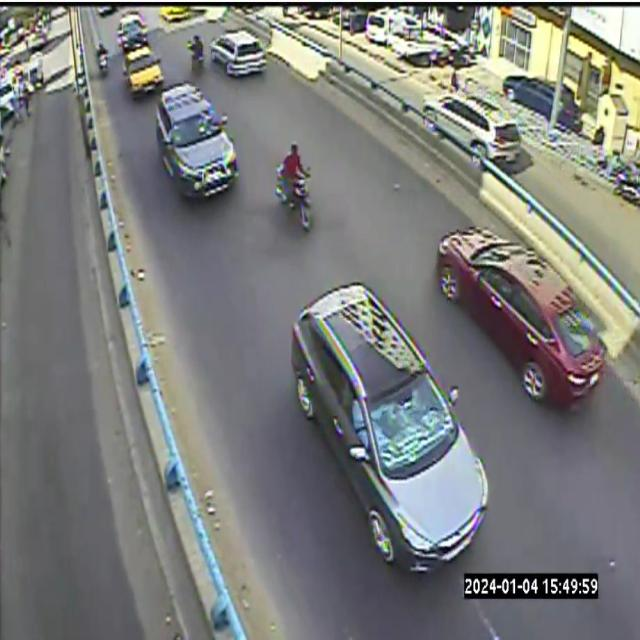car: (291, 282, 488, 572), (437, 226, 607, 406), (155, 82, 238, 196), (210, 30, 266, 75), (123, 44, 163, 96), (118, 13, 147, 53), (161, 6, 189, 20)
